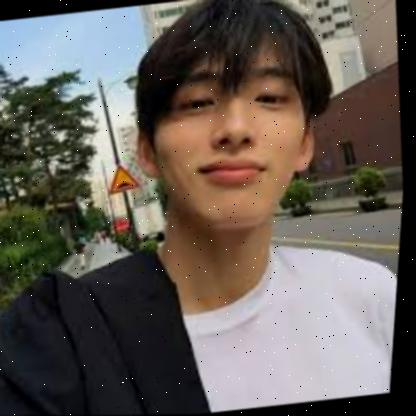person: (108, 0, 360, 255)
